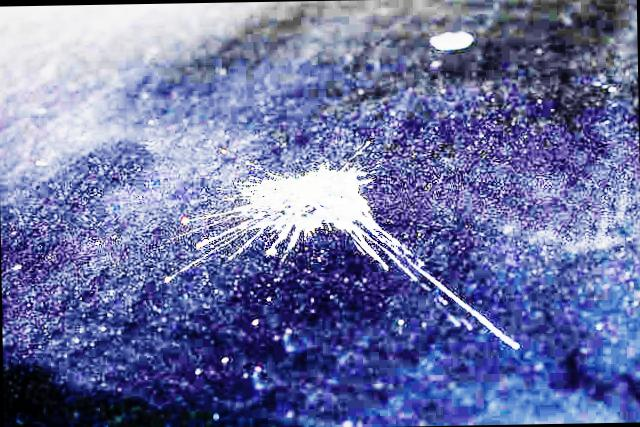Bird Poop: (197, 163, 516, 347), (431, 31, 471, 49)
